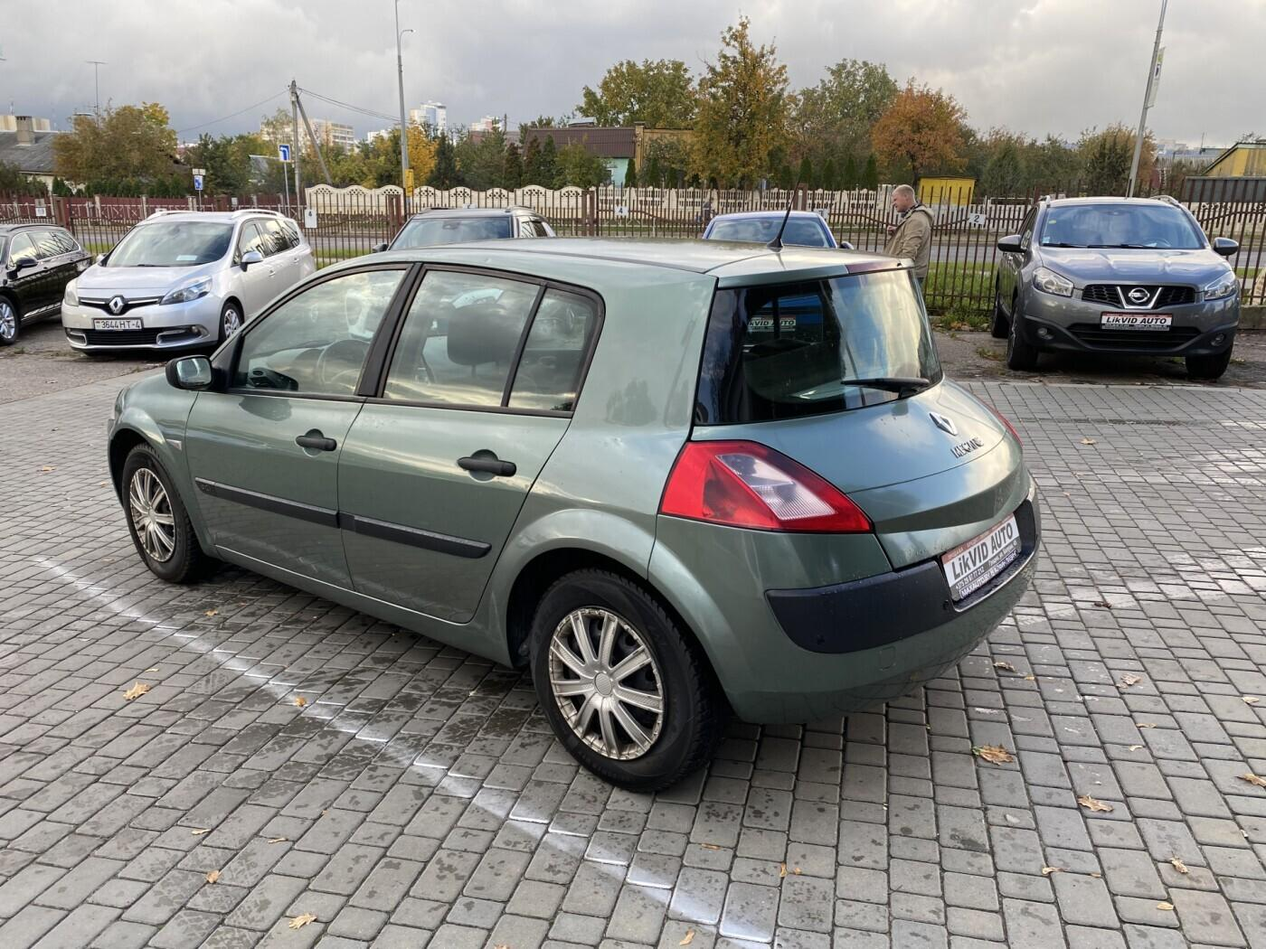Megane_2002-2006: (97, 249, 1031, 789)
